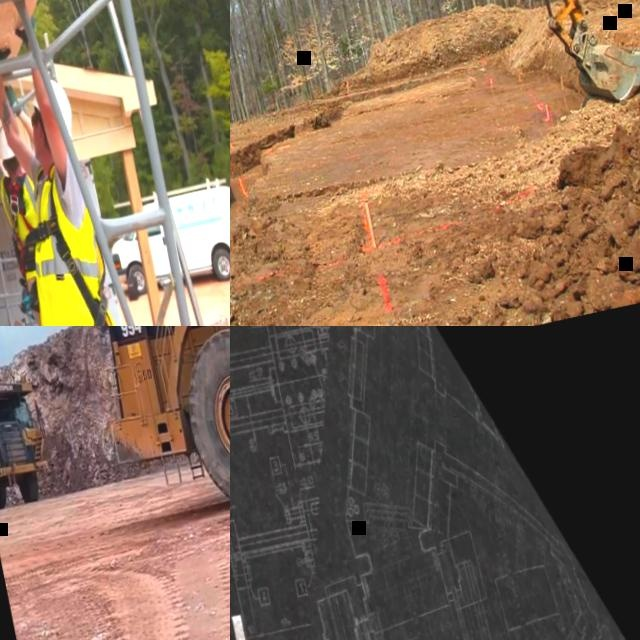Hardhat: (27, 76, 78, 148), (0, 125, 18, 160)
NO-Mask: (28, 118, 49, 161)
Person: (0, 14, 165, 326), (0, 78, 101, 326)
Safety Vest: (9, 156, 119, 326), (0, 164, 54, 280)
machinery: (67, 326, 230, 522), (477, 0, 640, 120), (0, 359, 66, 525)
vehicle: (101, 174, 230, 303)
